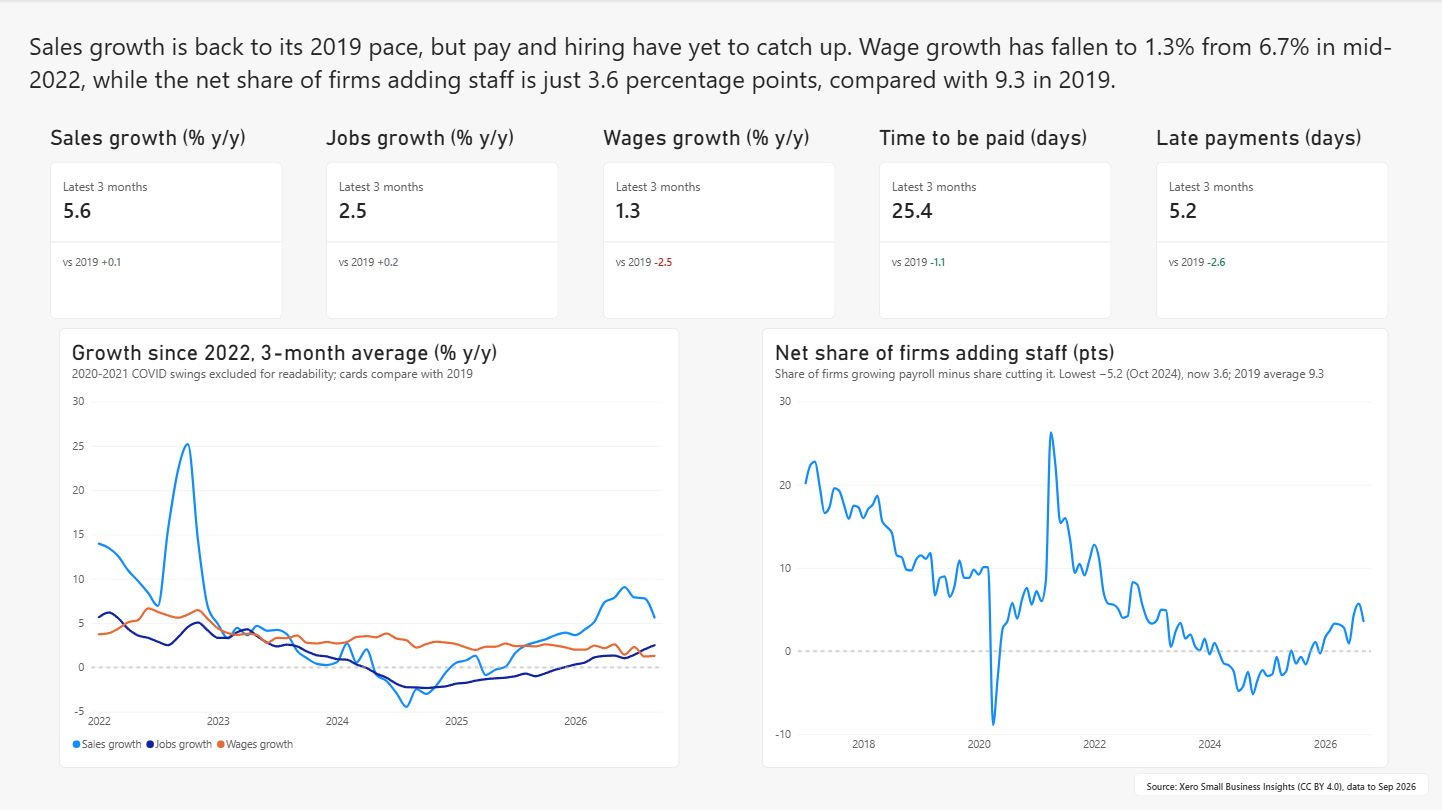

What the dashboard file says about the page in this screenshot:
{"tool":"powerbi","page":{"name":"National Overview","canvas":[1920,1080],"ordinal":0},"visuals":[{"type":"textbox","box":[40.2,40.2,1841,104],"z":0},{"type":"cardVisual","fields":{"Data":["_Measures.Source Note"]},"box":[1509.6,1029.5,392.4,31.9],"z":1000},{"type":"cardVisual","title":"Sales growth (% y/y)","fields":{"Data":["_Measures.Latest 3M Avg"]},"box":[67.8,167.2,309.2,258.7],"z":2000},{"type":"cardVisual","title":"Time to be paid (days)","fields":{"Data":["_Measures.Latest 3M Avg"]},"box":[1170.6,167.2,309.2,258.7],"z":3000},{"type":"cardVisual","title":"Wages growth (% y/y)","fields":{"Data":["_Measures.Latest 3M Avg"]},"box":[803,167.2,309.2,258.7],"z":4000},{"type":"cardVisual","title":"Jobs growth (% y/y)","fields":{"Data":["_Measures.Latest 3M Avg"]},"box":[435.4,167.2,309.2,258.7],"z":5000},{"type":"cardVisual","title":"Late payments (days)","fields":{"Data":["_Measures.Latest 3M Avg"]},"box":[1538.2,167.2,309.2,258.7],"z":6000},{"type":"lineChart","title":"Growth since 2022, 3-month average (% y/y)","fields":{"Category":["DimDate.Date"],"Series":["DimMetric.MetricName"],"Y":["_Measures.Value 3M Avg"]},"box":[80.5,437,825.1,585.3],"z":7000},{"type":"lineChart","title":"Net share of firms adding staff (pts)","fields":{"Category":["DimDate.Date"],"Y":["_Measures.Net Job Creators"]},"box":[1014.4,437,833,585.3],"z":8000}]}

Visuals, with their boxes in screenshot pixels (x1, y1, x2, y2), scaled from the page's 1920x1080 canvas onto the 1442x810 screenshot:
textbox: bbox=(30, 30, 1413, 108)
cardVisual - _Measures.Source Note: bbox=(1134, 772, 1428, 796)
"Sales growth (% y/y)" cardVisual: bbox=(51, 125, 283, 319)
"Time to be paid (days)" cardVisual: bbox=(879, 125, 1111, 319)
"Wages growth (% y/y)" cardVisual: bbox=(603, 125, 835, 319)
"Jobs growth (% y/y)" cardVisual: bbox=(327, 125, 559, 319)
"Late payments (days)" cardVisual: bbox=(1155, 125, 1387, 319)
"Growth since 2022, 3-month average (% y/y)" lineChart: bbox=(60, 328, 680, 767)
"Net share of firms adding staff (pts)" lineChart: bbox=(762, 328, 1387, 767)
